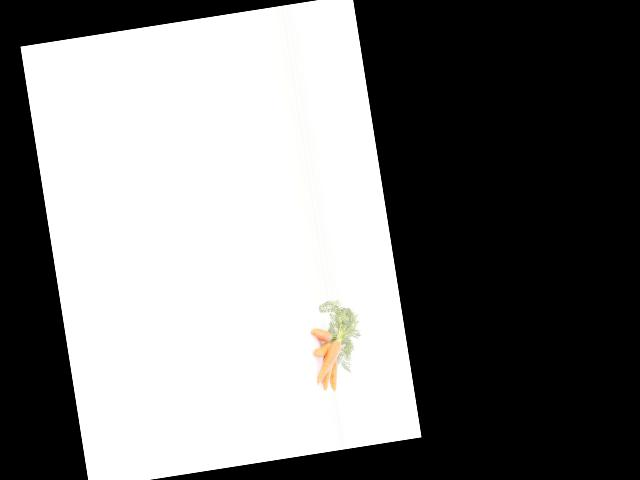carrot: (308, 333, 349, 384)
